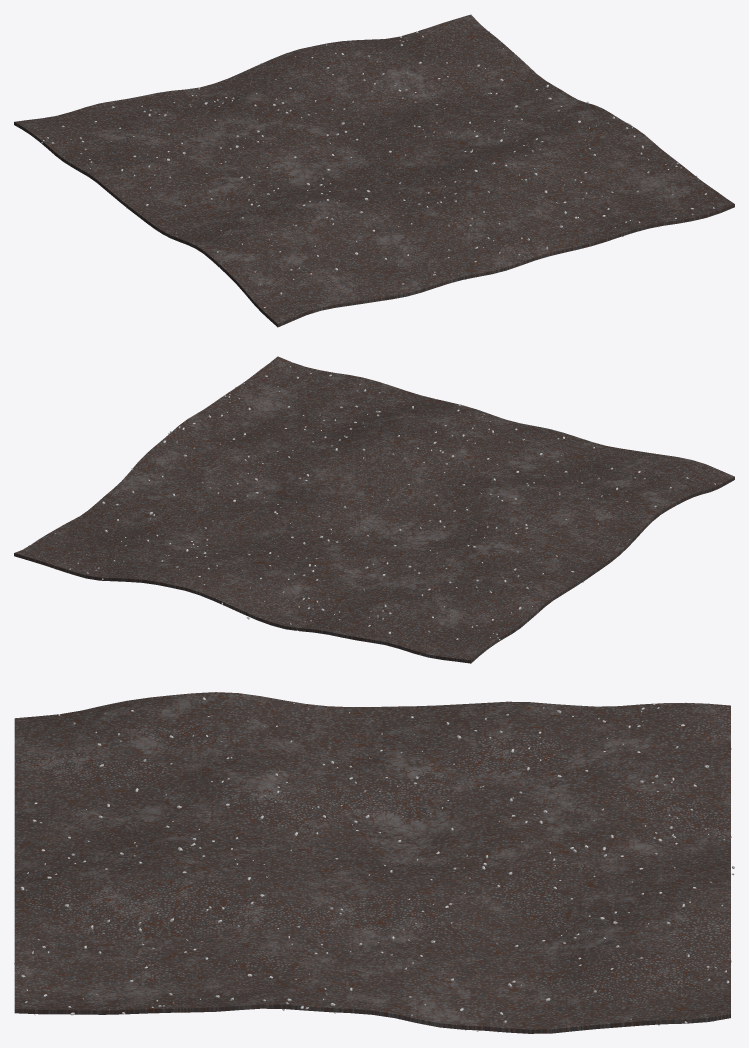
Rendered from ground.fbx.
3 views of the same model, one above another, from view 1: azimuth 30°, elevation 25°; view 2: azimuth 150°, elevation 25°; view 3: azimuth 270°, elevation 25° (orthographic). The views are drawn at different scales.
Visible parts, largest first — view 1: ground; view 2: ground; view 3: ground.
Boxes of the visible parts, <box> form: ground: <box>14,14,734,327</box>; ground: <box>14,356,734,663</box>; ground: <box>14,692,730,1033</box>.
Bounding box in the file's own units: 6320 × 422 × 6315.
